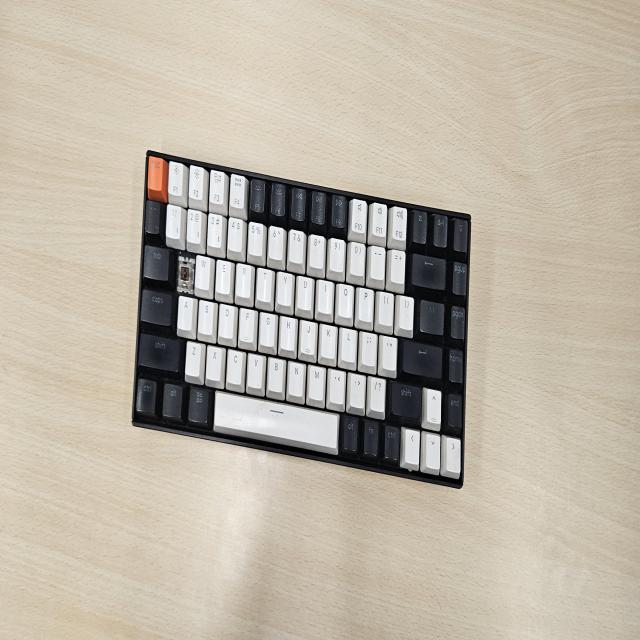C: (177, 253, 192, 295)
